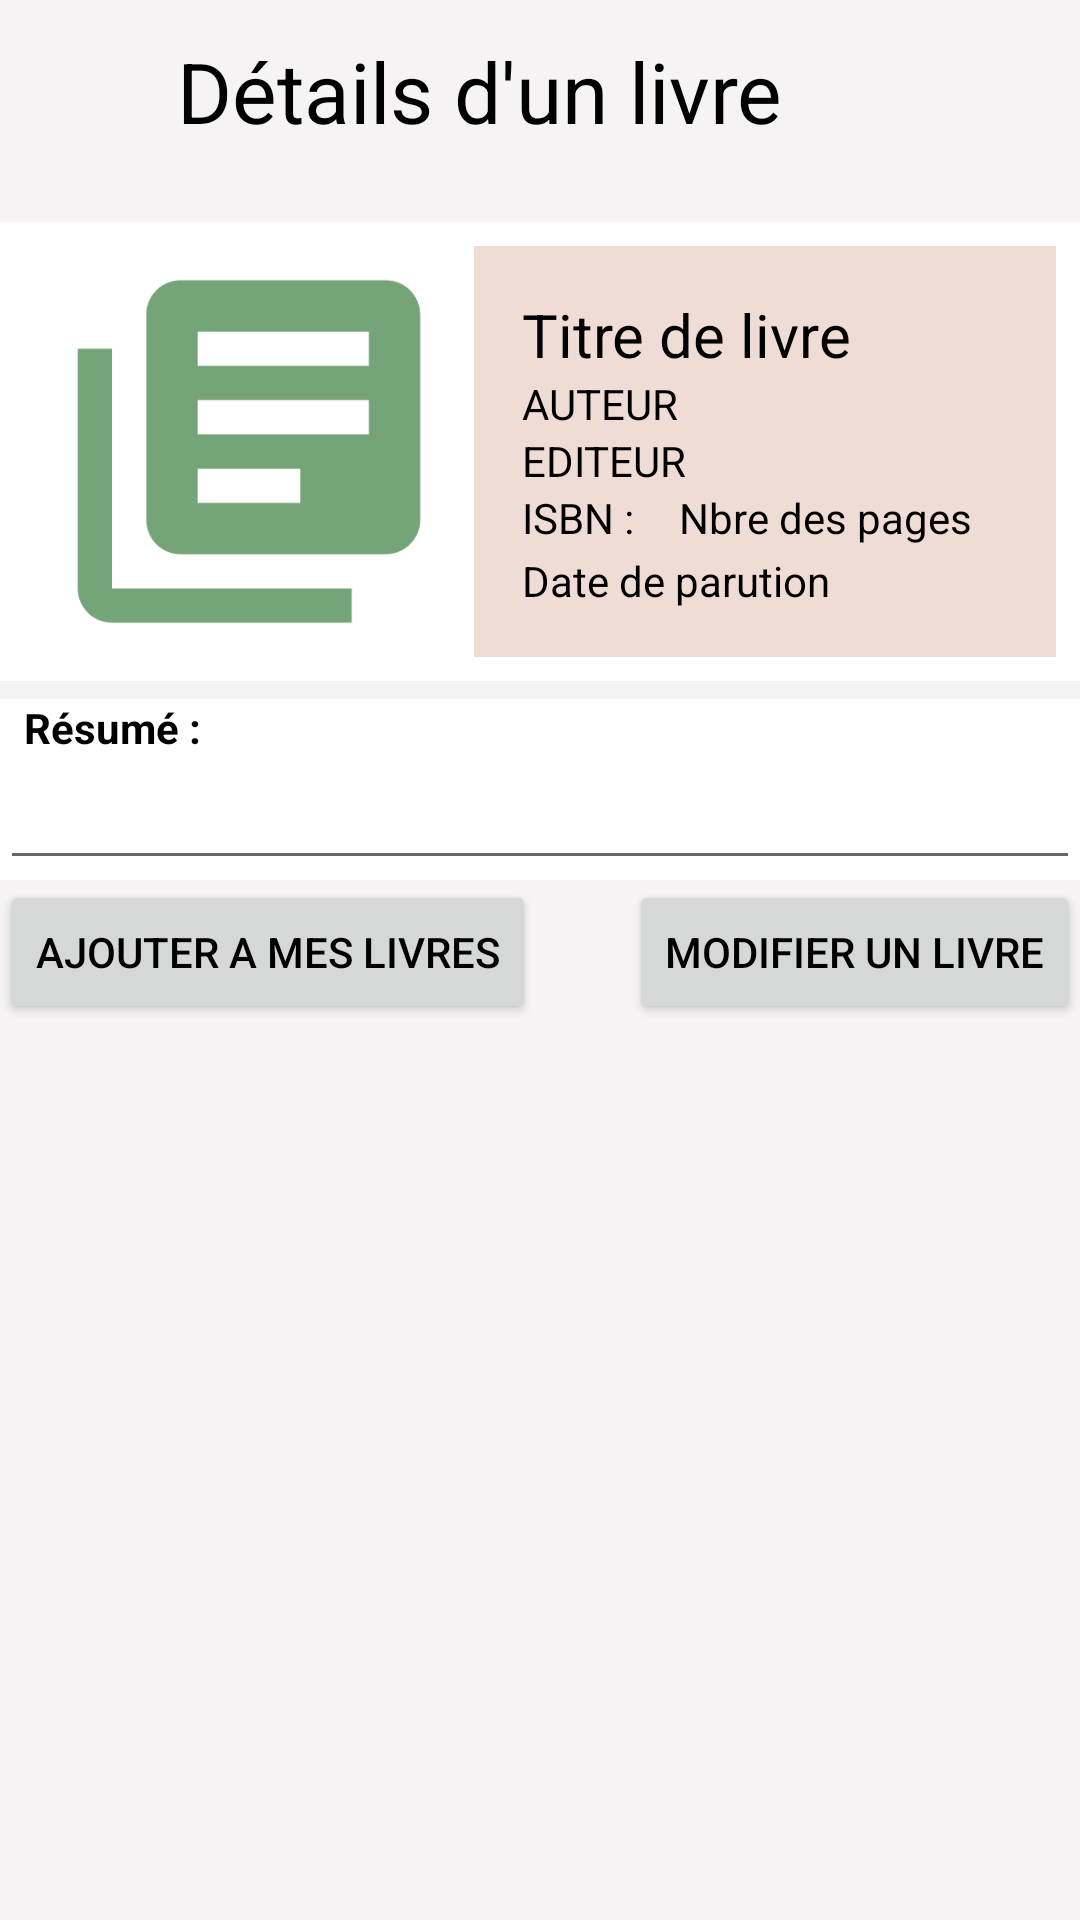

Screen size 1080*1920. Icon name, then its box in pixels as bbox=[x1, y1, x2, y2]:
couverture livre: bbox=[77, 280, 421, 623]
